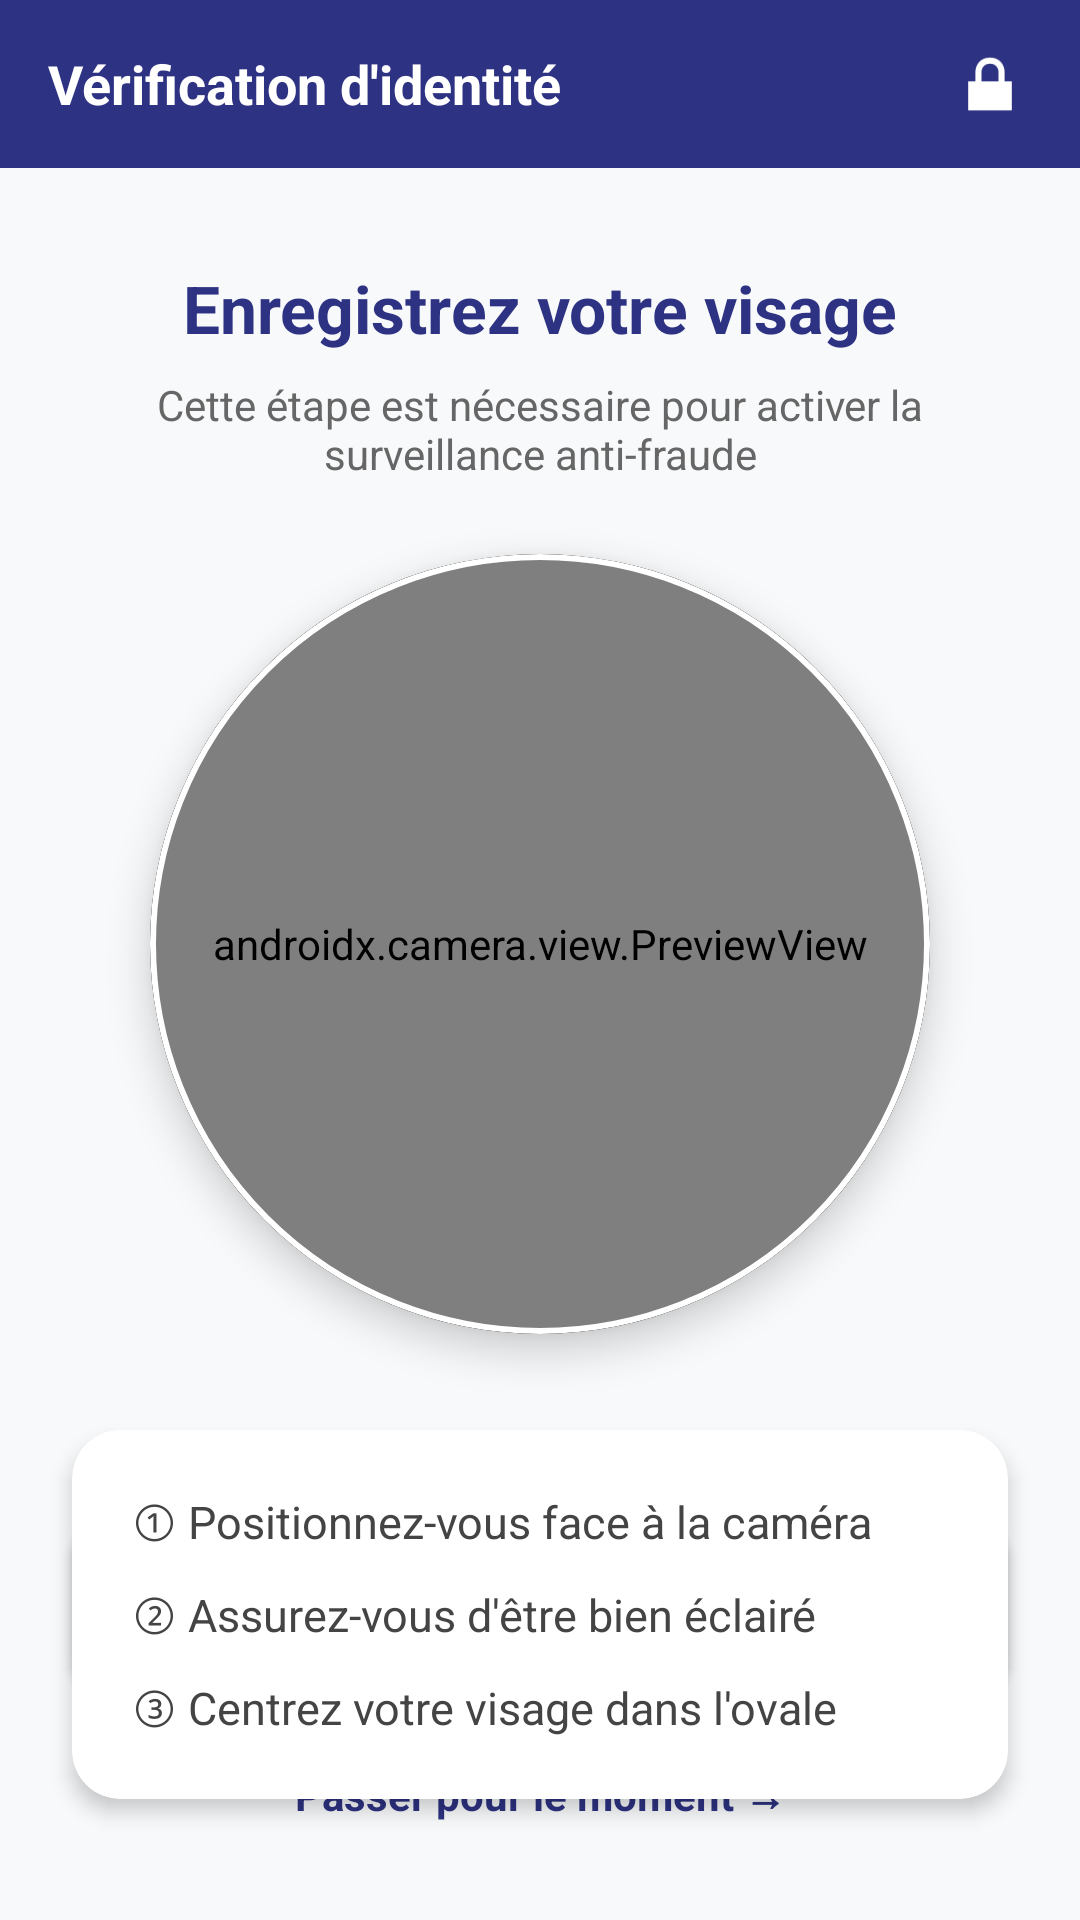

Named icons in this screenshot (1080px×1920px) and their bounding boxes, [left=x1, top=y1, right=x2, bottom=y2]:
lock: [left=968, top=57, right=1012, bottom=111]
